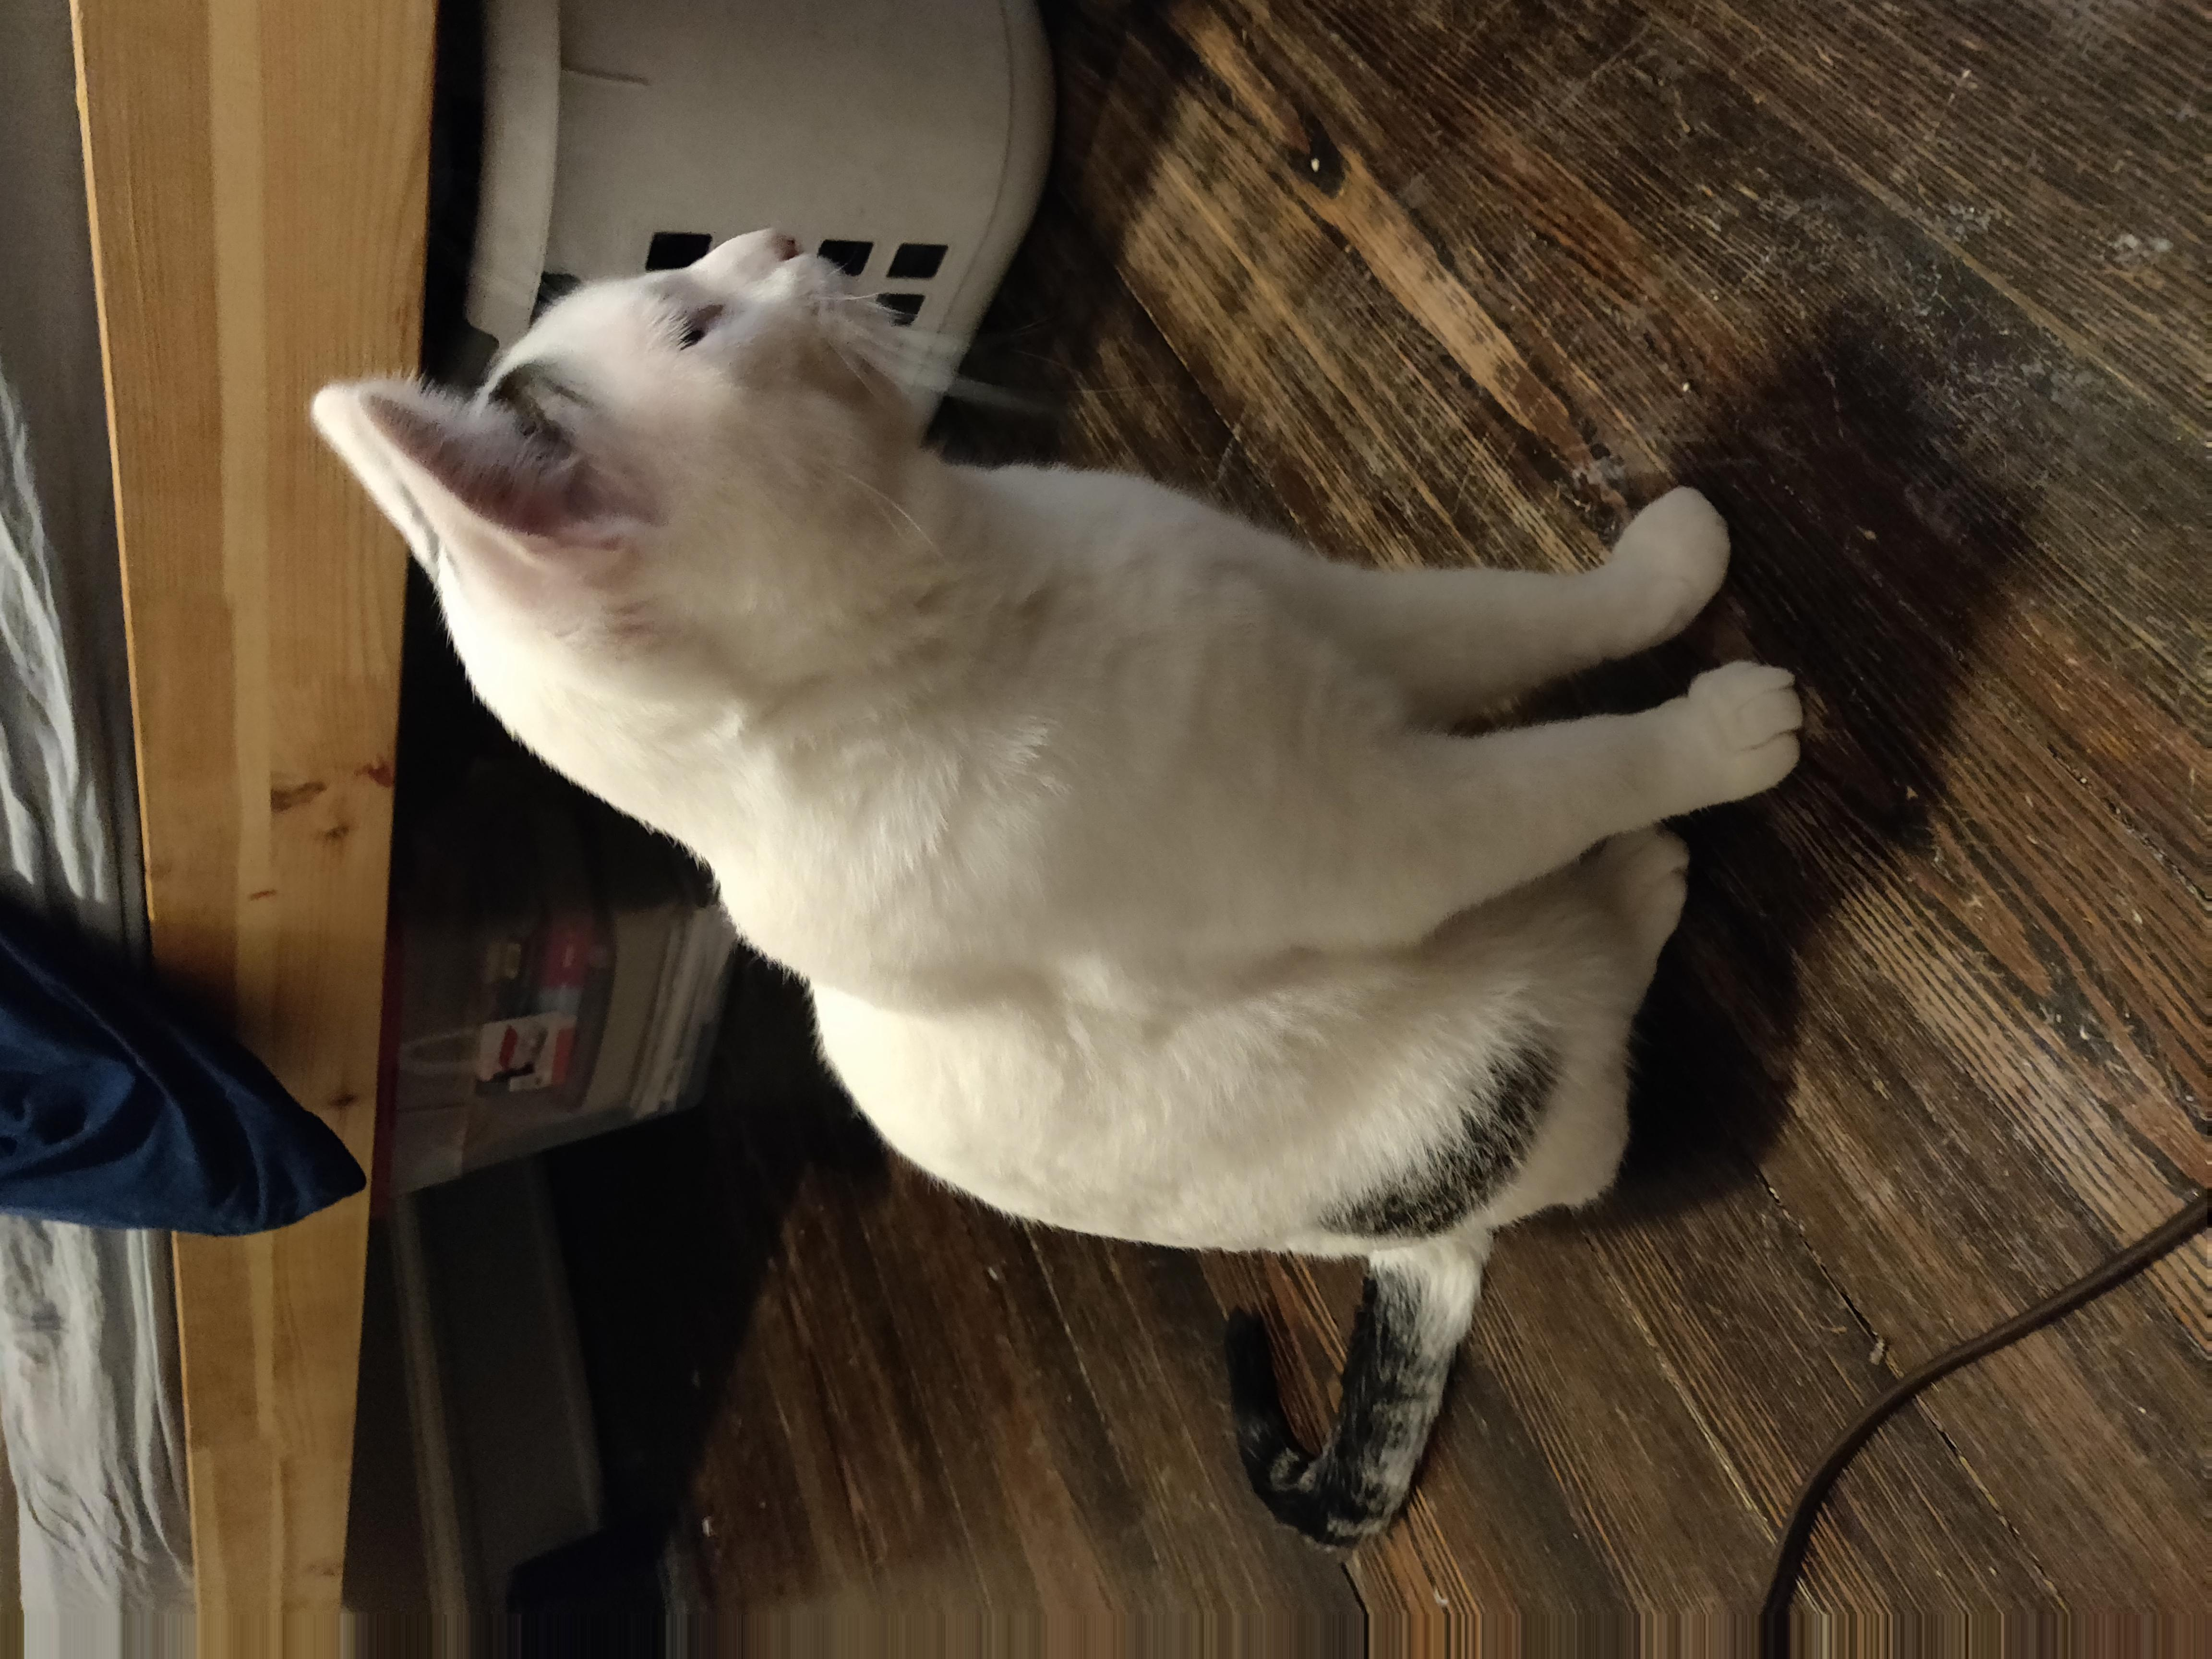cat: (301, 207, 1784, 1268)
